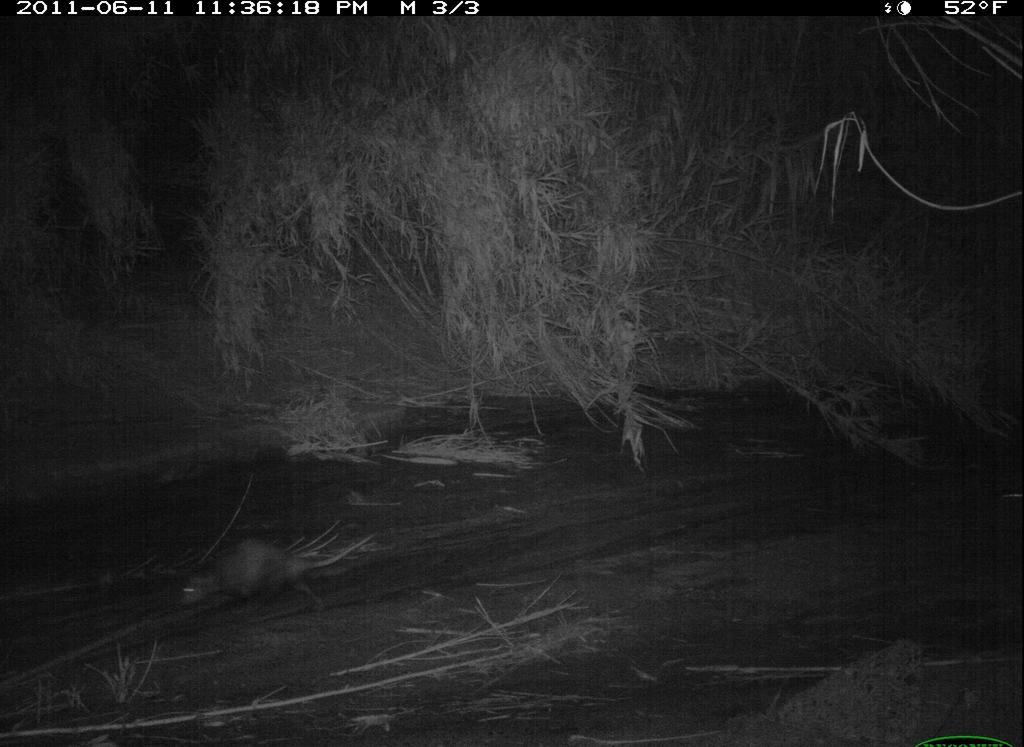opossum: (162, 517, 361, 633)
